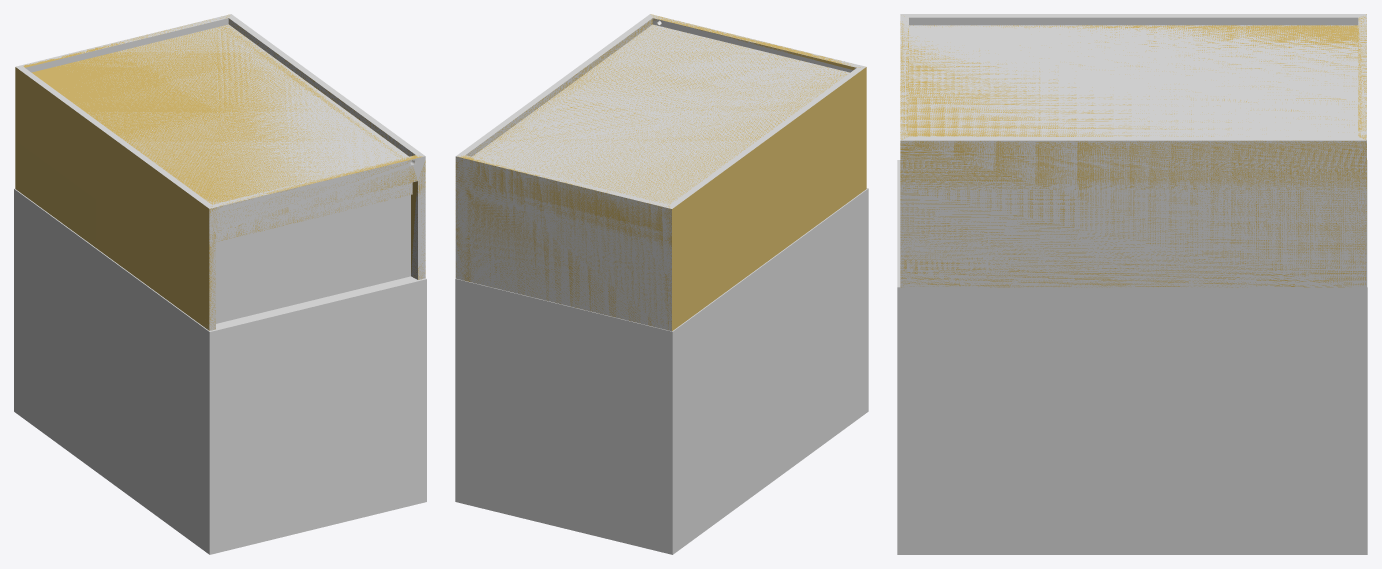
File: CASA12.fbx
The picture shows the model from 3 angles, left to right: view 1: azimuth 30°, elevation 25°; view 2: azimuth 150°, elevation 25°; view 3: azimuth 270°, elevation 25°; orthographic projection. The views are drawn at different scales.
Visible parts, largest first — view 1: CUBE_LOD0, UTM_CASA12, CASA12_LOD0; view 2: CUBE_LOD0, CASA12_LOD0, UTM_CASA12; view 3: CUBE_LOD0, CASA12_LOD0, UTM_CASA12.
Part boxes in pixels (x1=…): CUBE_LOD0: x1=14, y1=188, x2=426, y2=554; UTM_CASA12: x1=15, y1=14, x2=425, y2=330; CASA12_LOD0: x1=15, y1=14, x2=425, y2=330; CUBE_LOD0: x1=455, y1=188, x2=868, y2=554; CASA12_LOD0: x1=455, y1=14, x2=866, y2=331; UTM_CASA12: x1=455, y1=14, x2=866, y2=330; CUBE_LOD0: x1=897, y1=160, x2=1367, y2=554; CASA12_LOD0: x1=900, y1=14, x2=1366, y2=287; UTM_CASA12: x1=900, y1=14, x2=1366, y2=287.
Size of what is drawn, in the model's own units: 714 by 1083 by 1114.
